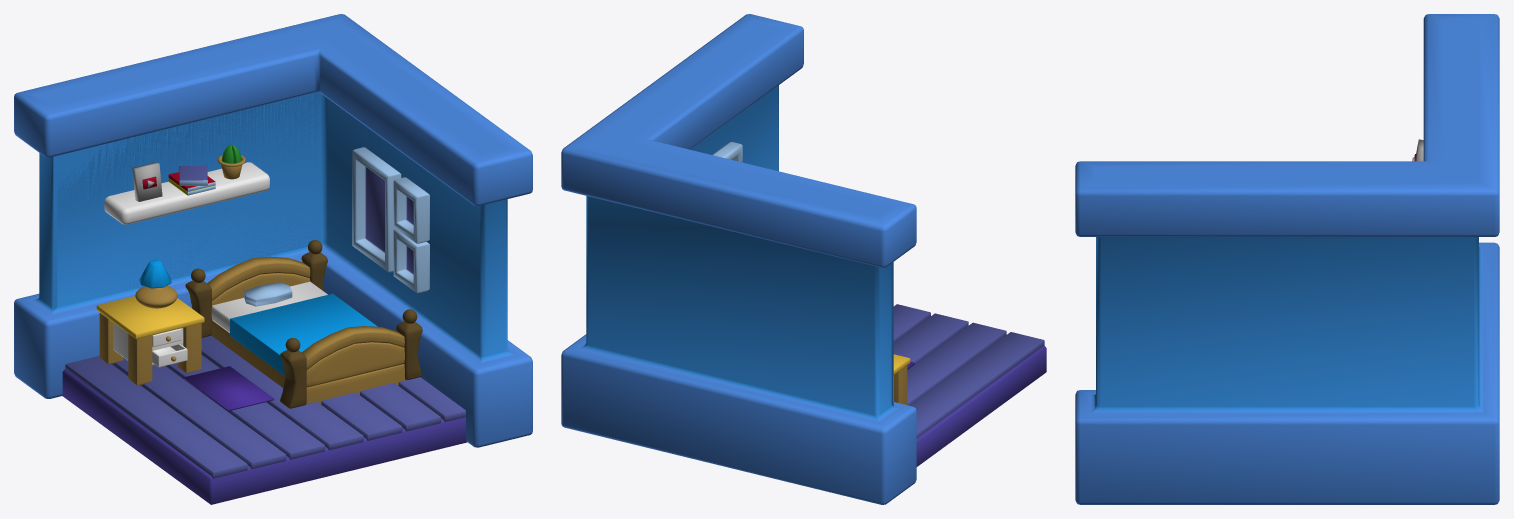
File: room.gltf
3 views of the same model, side by side, from view 1: azimuth 30°, elevation 25°; view 2: azimuth 150°, elevation 25°; view 3: azimuth 270°, elevation 25° (orthographic). The views are drawn at different scales.
Parts seen in each view (by area): view 1: Cube_Cube.001; view 2: Cube_Cube.001; view 3: Cube_Cube.001.
Part boxes in pixels (x1,y1,x2,y2): Cube_Cube.001: (14, 14, 532, 504); Cube_Cube.001: (561, 14, 1046, 504); Cube_Cube.001: (1075, 14, 1499, 504).
Size of the model in its own units: 2.44 by 2 by 2.44.
